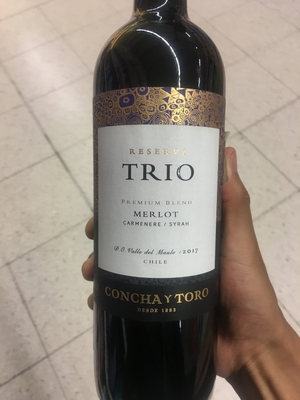trio merlot: (84, 12, 242, 400)
